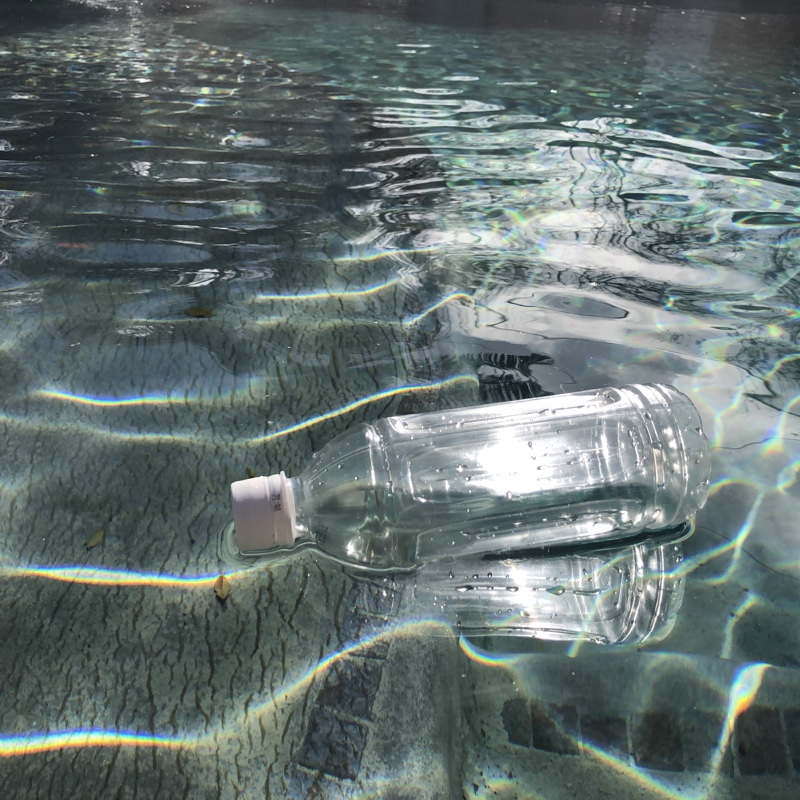Plastic Bottle: (220, 377, 711, 574)
